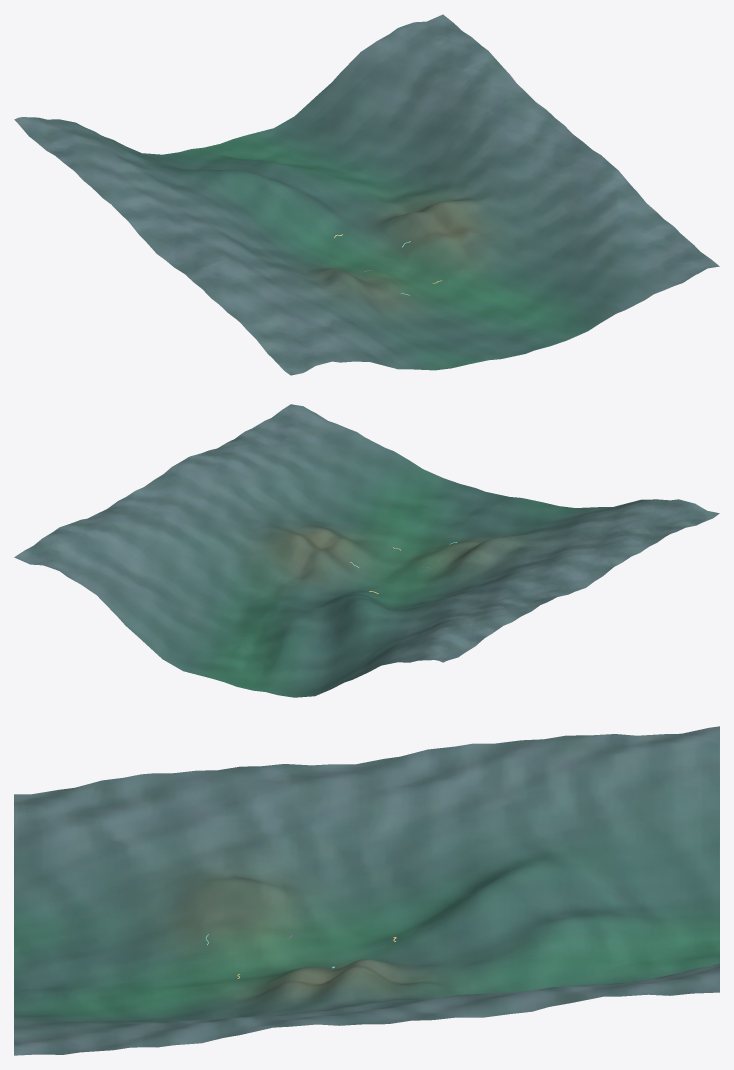
The model's file is life-map-memory-sanctuary-v212.glb.
3 renders of one model, top to bottom at view 1: azimuth 30°, elevation 25°; view 2: azimuth 150°, elevation 25°; view 3: azimuth 270°, elevation 25°, orthographic. The views are drawn at different scales.
Visible parts, largest first — view 1: life-map-v212-continuous-eroded-memory-sanctuary; view 2: life-map-v212-continuous-eroded-memory-sanctuary; view 3: life-map-v212-continuous-eroded-memory-sanctuary.
Boxes of the visible parts, x1,y1,x2,y2 form: life-map-v212-continuous-eroded-memory-sanctuary: (14,14,719,375); life-map-v212-continuous-eroded-memory-sanctuary: (14,404,719,697); life-map-v212-continuous-eroded-memory-sanctuary: (14,726,719,1055).
Bounding box in the file's own units: 68 × 13.62 × 76.
Materials: 4 (1 with a texture image).
